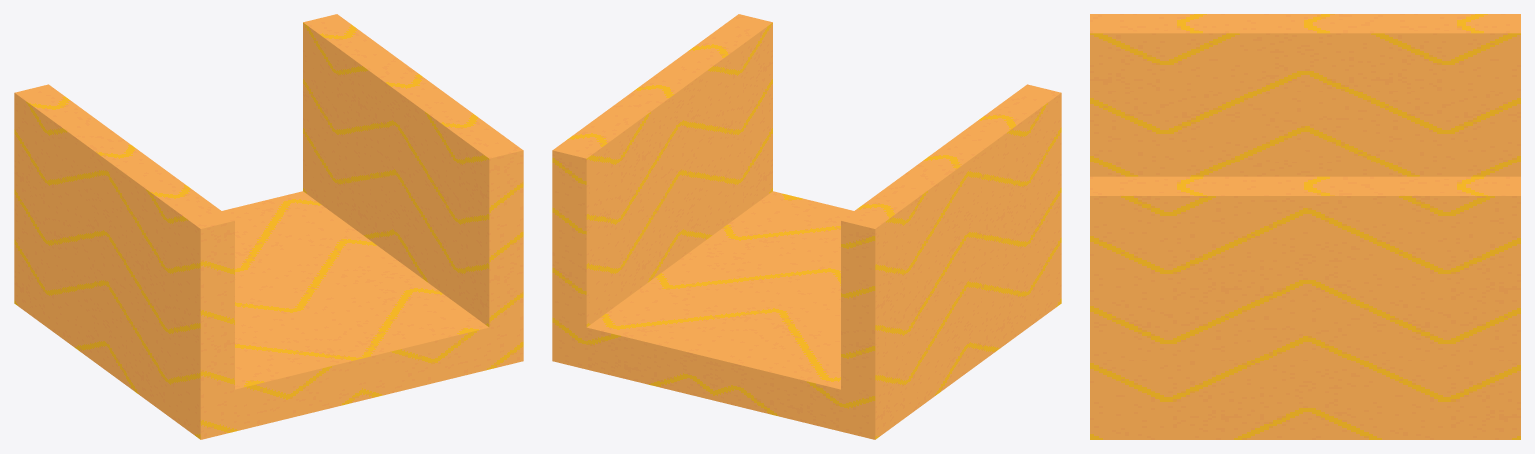
File: ramp.glb
3 renders of one model, left to right at view 1: azimuth 30°, elevation 25°; view 2: azimuth 150°, elevation 25°; view 3: azimuth 270°, elevation 25°, orthographic. The views are drawn at different scales.
Visible parts, largest first — view 1: ramp; view 2: ramp; view 3: ramp.
Boxes of the visible parts, box(x1,y1,x2,y2) form: ramp: box(14, 14, 523, 439); ramp: box(552, 14, 1061, 439); ramp: box(1090, 14, 1520, 439).
Bounding box in the file's own units: 0.5 × 0.3122 × 0.5.
Materials: 1 (1 with a texture image).
